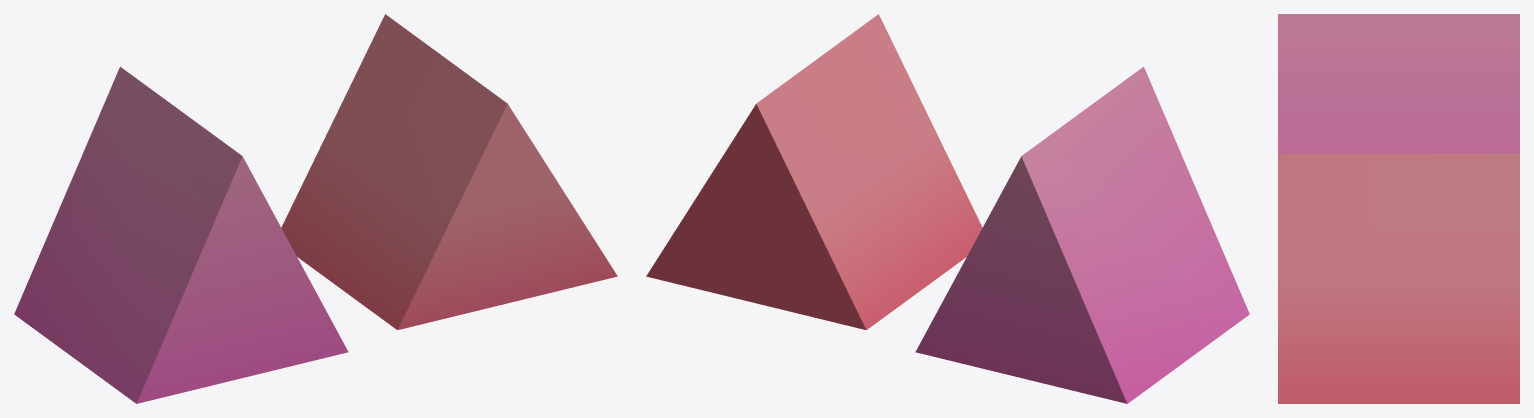
The model's file is Triangle.fbx.
The picture shows the model from 3 angles, left to right: view 1: azimuth 30°, elevation 25°; view 2: azimuth 150°, elevation 25°; view 3: azimuth 270°, elevation 25°; orthographic projection.
Parts seen in each view (by area): view 1: Triangle01, Triangle02; view 2: Triangle01, Triangle02; view 3: Triangle02, Triangle01.
Part boxes in pixels (x1,y1,x2,y2): Triangle01: [14, 66, 348, 403]; Triangle02: [281, 14, 617, 330]; Triangle01: [915, 66, 1249, 403]; Triangle02: [646, 14, 982, 330]; Triangle02: [1278, 153, 1519, 403]; Triangle01: [1278, 14, 1519, 153].
Size of the model in its own units: 227 by 100 by 100.
